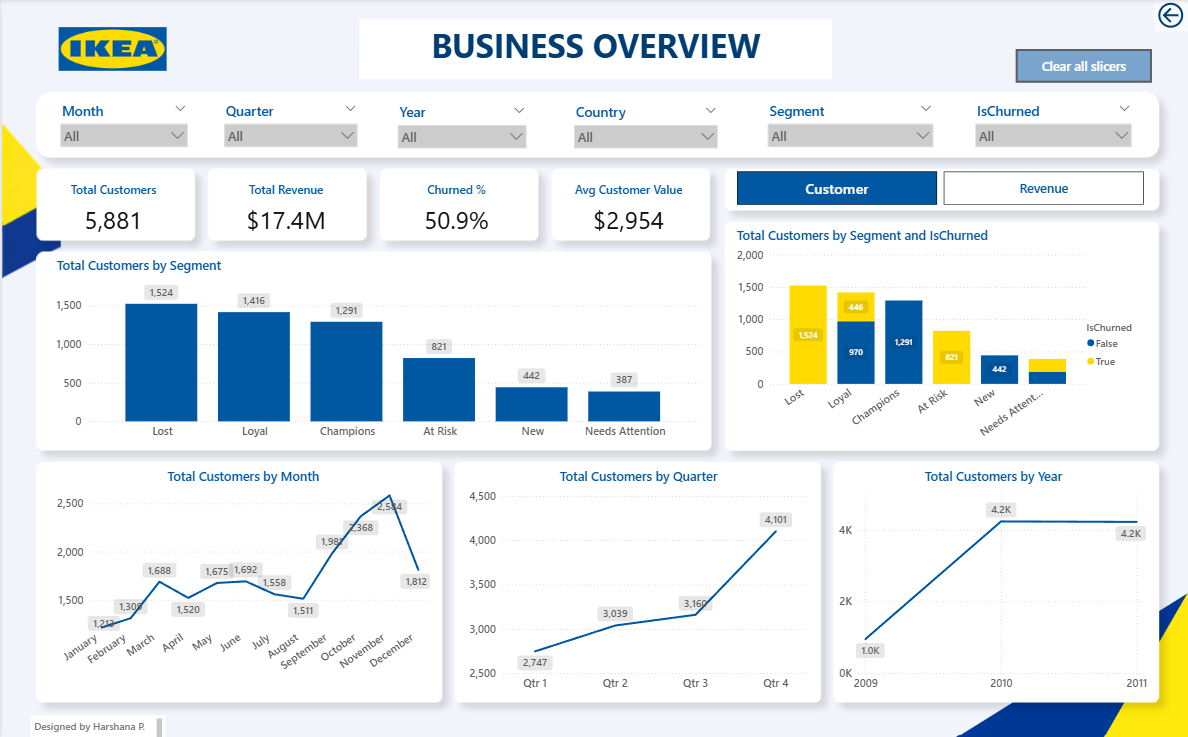

The page's visual inventory and layout, read from the dashboard file:
{"tool":"powerbi","page":{"name":"Overview","canvas":[1750,1100],"ordinal":1},"visuals":[{"type":"cardVisual","fields":{"Data":["Sheet1.Total Customers"]},"box":[58.1,253.1,211.8,101.2],"z":0},{"type":"lineChart","fields":{"Y":["Sheet1.Total Customers"],"Category":["Sheet1.InvoiceDate.Variation.Date Hierarchy.Month"]},"box":[75,691.7,560.5,320.5],"z":0,"group":"g1"},{"type":"cardVisual","fields":{"Data":["Sheet1.Total Revenue"]},"box":[316.8,253.1,204.3,101.2],"z":1000},{"type":"lineChart","fields":{"Y":["Sheet1.Total Customers"],"Category":["Sheet1.InvoiceDate.Variation.Date Hierarchy.Quarter"]},"box":[682.3,691.7,509.9,339.3],"z":1000,"group":"g1"},{"type":"cardVisual","fields":{"Data":["Sheet1.Churned %"]},"box":[573.6,253.1,194.9,95.6],"z":2000},{"type":"lineChart","fields":{"Y":["Sheet1.Total Customers"],"Category":["Sheet1.InvoiceDate.Variation.Date Hierarchy.Year"]},"box":[1229.7,691.7,464.9,339.3],"z":2000,"group":"g1"},{"type":"cardVisual","fields":{"Data":["Sheet1.Avg Customer Value"]},"box":[817.3,253.1,215.6,101.2],"z":3000},{"type":"columnChart","fields":{"Y":["Sheet1.Total Customers"],"Category":["Sheet1.Segment"]},"box":[75,380.5,957.9,279.3],"z":3000,"group":"g1"},{"type":"slicer","fields":{"Values":["Sheet1.InvoiceDate.Variation.Date Hierarchy.Month"]},"box":[75,146.2,208.1,78.7],"z":4000},{"type":"columnChart","fields":{"Category":["Sheet1.Segment"],"Y":["Sheet1.Total Customers"],"Series":["Sheet1.IsChurned"]},"box":[1077.8,335.5,616.7,324.3],"z":4000,"group":"g1"},{"type":"slicer","fields":{"Values":["Sheet1.InvoiceDate.Variation.Date Hierarchy.Quarter"]},"box":[316.8,146.2,217.4,76.9],"z":5000},{"type":"slicer","fields":{"Values":["Sheet1.InvoiceDate.Variation.Date Hierarchy.Year"]},"box":[573.6,148.1,209.9,76.9],"z":6000},{"type":"slicer","fields":{"Values":["Sheet1.Country"]},"box":[832.3,148.1,232.4,78.7],"z":7000},{"type":"slicer","fields":{"Values":["Sheet1.Segment"]},"box":[1119.1,146.2,264.3,82.5],"z":8000},{"type":"slicer","fields":{"Values":["Sheet1.IsChurned"]},"box":[1424.6,146.2,251.2,80.6],"z":9000},{"type":"textbox","box":[43.1,1055.3,198.7,45],"z":10000},{"type":"group","id":"g1","title":"Customers","box":[75,335.5,1619.5,695.4],"z":11000},{"type":"bookmarkNavigator","box":[1084.4,254.8,600.5,49.4],"z":13000},{"type":"image","box":[42.4,0,241.5,147.5],"z":14000},{"type":"textbox","box":[526.6,29.5,696.7,88.5],"z":15000},{"type":"actionButton","box":[1699.4,0,49.8,47.9],"z":16000},{"type":"actionButton","box":[1494.8,73.7,200.9,49.8],"z":17000}]}

Visuals, with their boxes in screenshot pixels (x1, y1, x2, y2), scaled from the page's 1750x1100 canvas onto the 1188x737 screenshot:
cardVisual - Sheet1.Total Customers: box(39, 170, 183, 237)
lineChart - Sheet1.Total Customers x Sheet1.InvoiceDate.Variation.Date Hierarchy.Month: box(51, 463, 431, 678)
cardVisual - Sheet1.Total Revenue: box(215, 170, 354, 237)
lineChart - Sheet1.Total Customers x Sheet1.InvoiceDate.Variation.Date Hierarchy.Quarter: box(463, 463, 809, 691)
cardVisual - Sheet1.Churned %: box(389, 170, 522, 234)
lineChart - Sheet1.Total Customers x Sheet1.InvoiceDate.Variation.Date Hierarchy.Year: box(835, 463, 1150, 691)
cardVisual - Sheet1.Avg Customer Value: box(555, 170, 701, 237)
columnChart - Sheet1.Total Customers x Sheet1.Segment: box(51, 255, 701, 442)
slicer - Sheet1.InvoiceDate.Variation.Date Hierarchy.Month: box(51, 98, 192, 151)
columnChart - Sheet1.Segment x Sheet1.Total Customers: box(732, 225, 1150, 442)
slicer - Sheet1.InvoiceDate.Variation.Date Hierarchy.Quarter: box(215, 98, 363, 149)
slicer - Sheet1.InvoiceDate.Variation.Date Hierarchy.Year: box(389, 99, 532, 151)
slicer - Sheet1.Country: box(565, 99, 723, 152)
slicer - Sheet1.Segment: box(760, 98, 939, 153)
slicer - Sheet1.IsChurned: box(967, 98, 1138, 152)
textbox: box(29, 707, 164, 736)
"Customers" group: box(51, 225, 1150, 691)
bookmarkNavigator: box(736, 171, 1144, 204)
image: box(29, 0, 193, 99)
textbox: box(357, 20, 830, 79)
actionButton: box(1154, 0, 1187, 32)
actionButton: box(1015, 49, 1151, 83)
